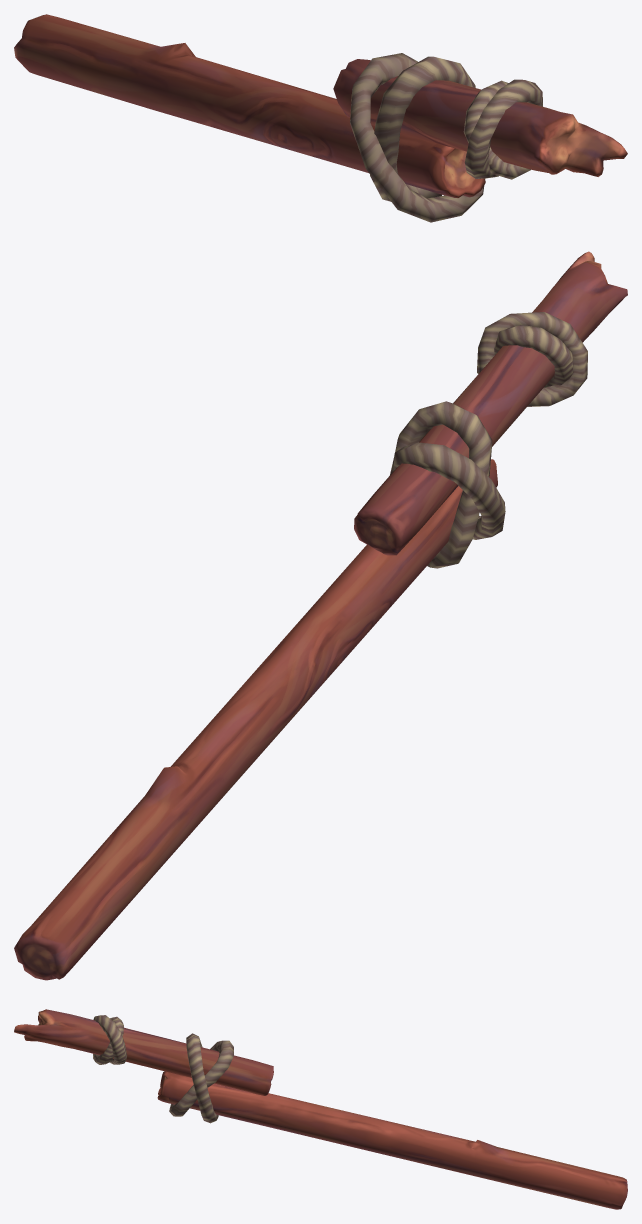
The model's file is Pole_Broken_mesh.fbx.
3 views of the same model, one above another, from view 1: azimuth 30°, elevation 25°; view 2: azimuth 150°, elevation 25°; view 3: azimuth 270°, elevation 25° (orthographic). The views are drawn at different scales.
Visible parts, largest first — view 1: Pole_Broken_mesh; view 2: Pole_Broken_mesh; view 3: Pole_Broken_mesh.
Part boxes in pixels (x1,y1,x2,y2): Pole_Broken_mesh: (14,14,627,222); Pole_Broken_mesh: (14,251,627,980); Pole_Broken_mesh: (14,1009,627,1209).
Size of the model in its own units: 1.26 by 3.73 by 10.89.
